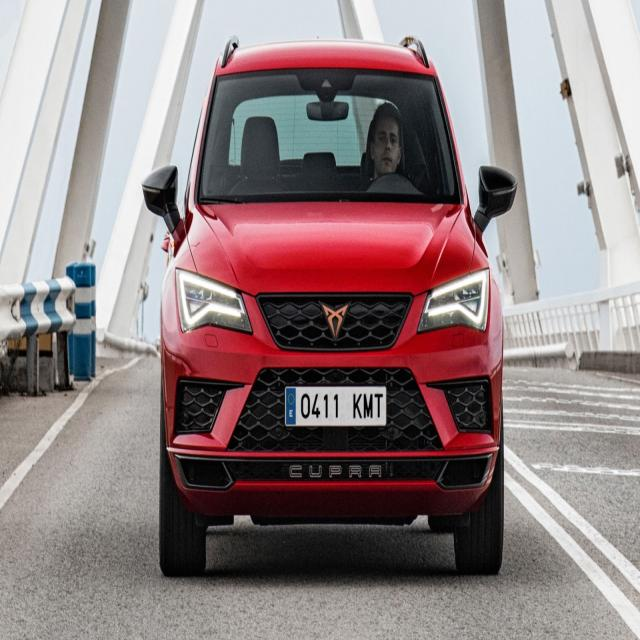license_plate-34Td: (285, 385, 386, 426)
